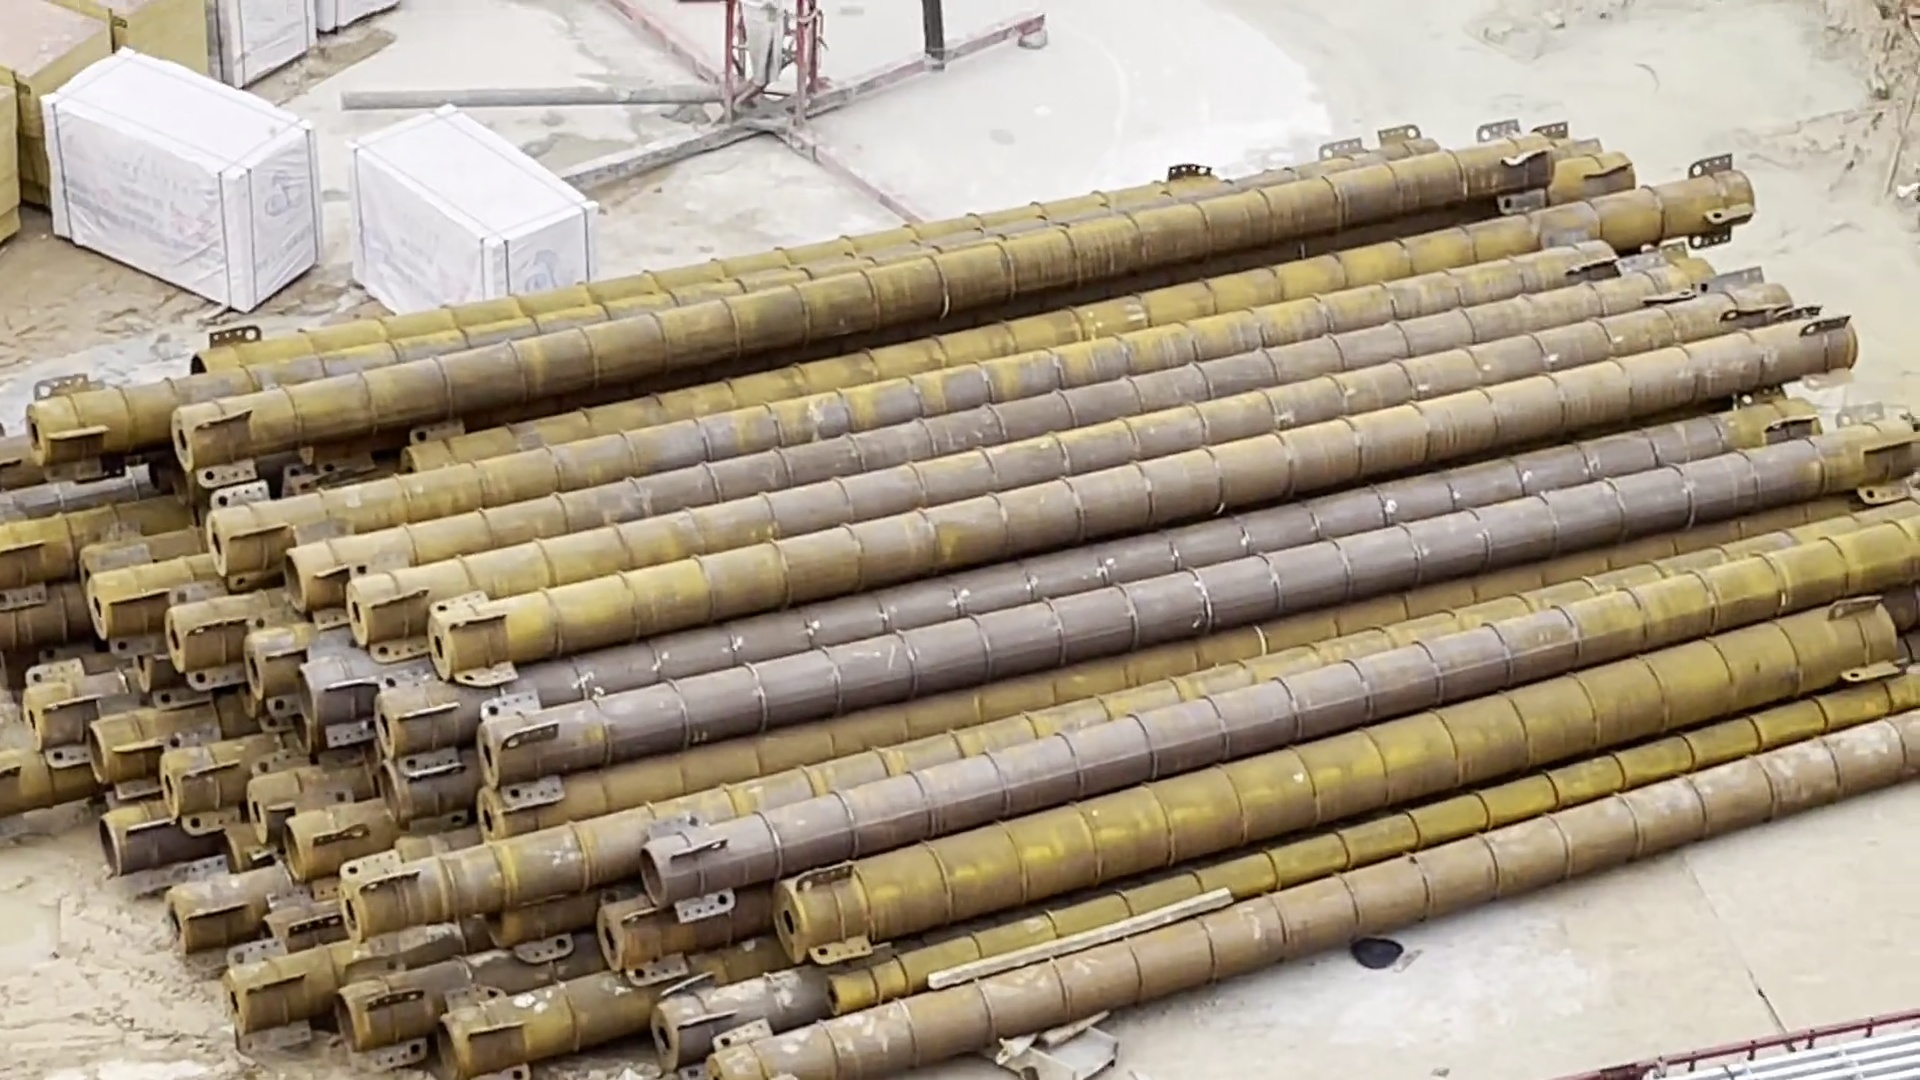scaffold: (1644, 1029, 1920, 1080)
